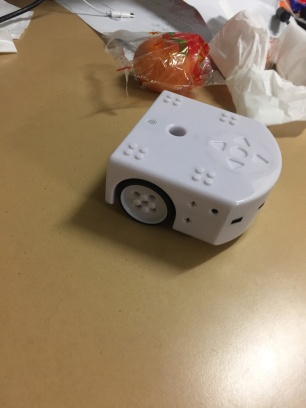thymio: (93, 86, 290, 249)
